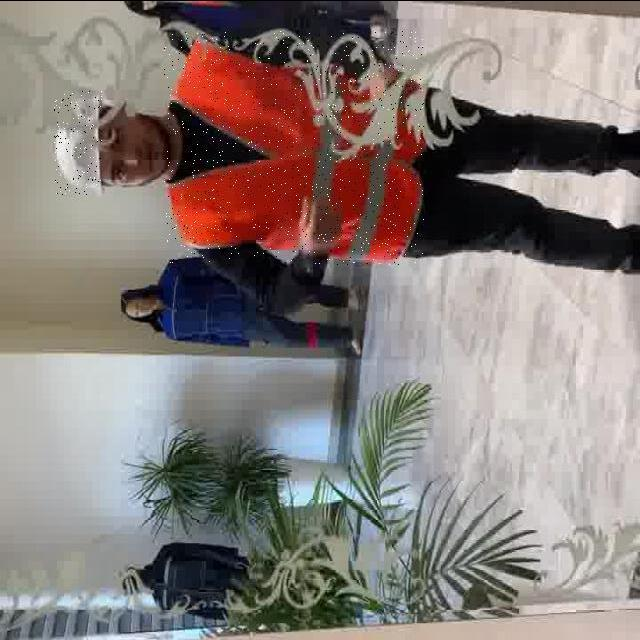helmet: (54, 90, 102, 194)
vest: (163, 29, 424, 264)
